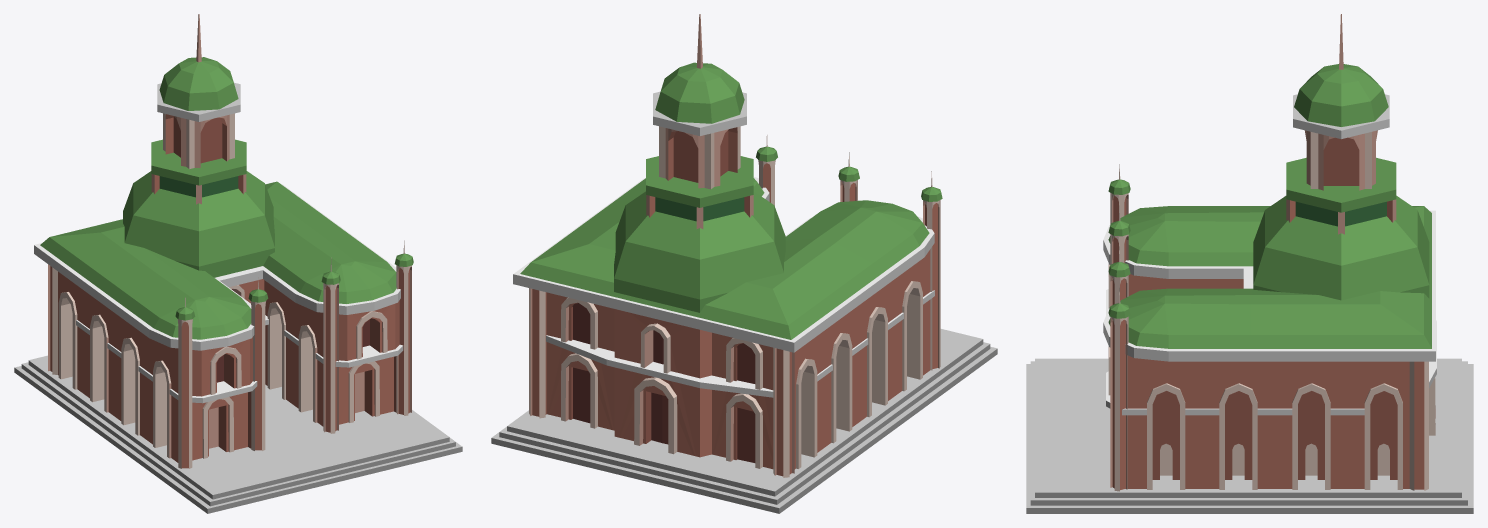
Rendered from temple_009.glb.
The picture shows the model from 3 angles, left to right: view 1: azimuth 30°, elevation 25°; view 2: azimuth 150°, elevation 25°; view 3: azimuth 270°, elevation 25°; orthographic projection. The views are drawn at different scales.
Visible parts, largest first — view 1: temple_009; view 2: temple_009; view 3: temple_009.
Part boxes in pixels (x1,y1,x2,y2): temple_009: [14, 14, 462, 513]; temple_009: [491, 14, 997, 513]; temple_009: [1026, 14, 1473, 513].
Size of the model in its own units: 15.72 by 21.76 by 20.63.
1 material, 1 textured.
